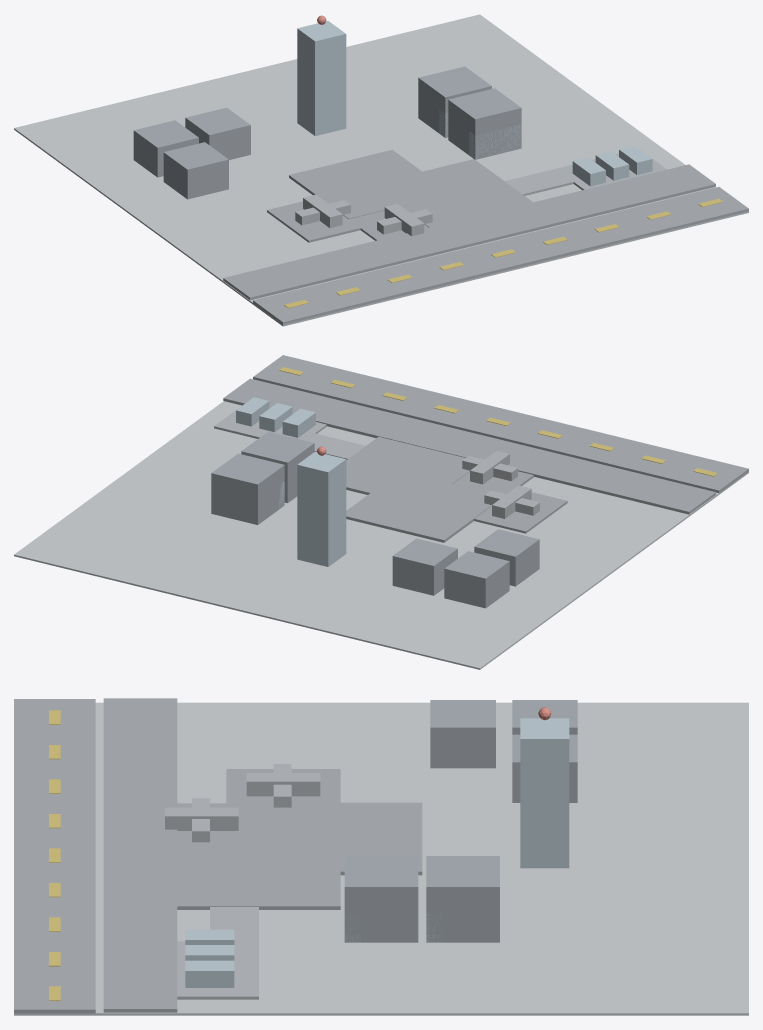
The model's file is stage_13.glb.
3 views of the same model, one above another, from view 1: azimuth 30°, elevation 25°; view 2: azimuth 150°, elevation 25°; view 3: azimuth 270°, elevation 25° (orthographic). The views are drawn at different scales.
Parts seen in each view (by area): view 1: geometry_0; view 2: geometry_0; view 3: geometry_0.
Boxes of the visible parts, left/top/right/bottom form: geometry_0: left=14, top=14, right=748, bottom=326; geometry_0: left=14, top=355, right=748, bottom=669; geometry_0: left=14, top=698, right=748, bottom=1015.
Bounding box in the file's own units: 9 × 2.06 × 9.
